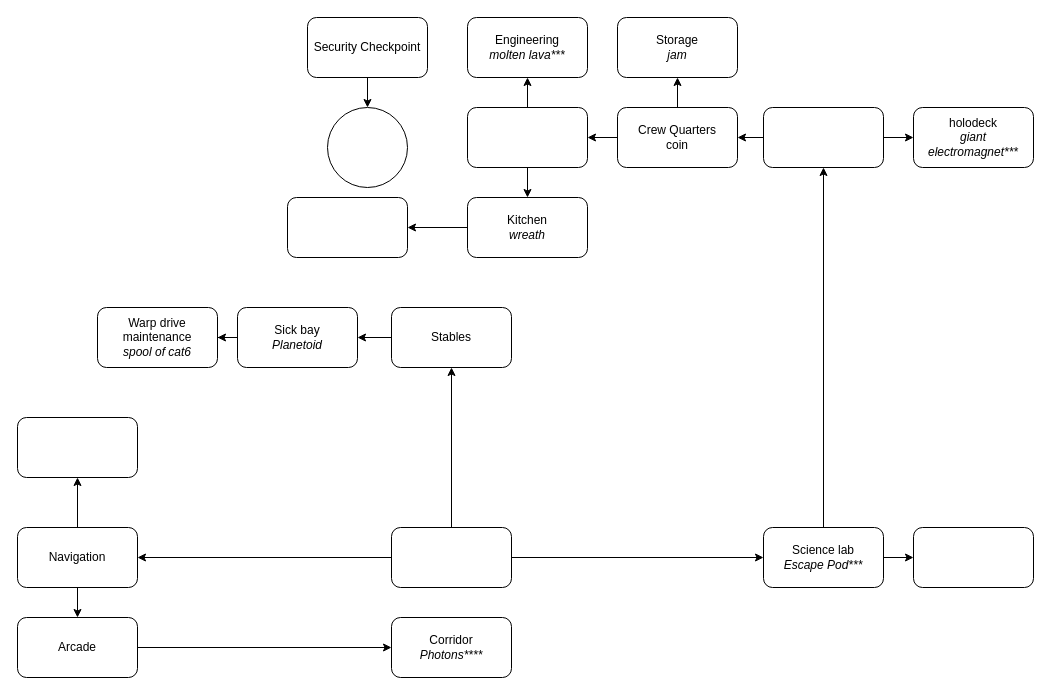
Image size: 1051x695. Some labels were removed from this diagram. Here are the shapes that lost their labels. From the top down, the box of each, then its label:
(326, 106, 408, 188): exit
(466, 106, 588, 168): Gift Wrapping Center infinite loop***
(762, 106, 884, 168): Observatory sand
(286, 196, 408, 258): hot chocolate fountain fuel cell
(16, 416, 138, 478): Hall way Dark Matter
(390, 526, 512, 588): Hull Breach
(912, 526, 1034, 588): Passages
